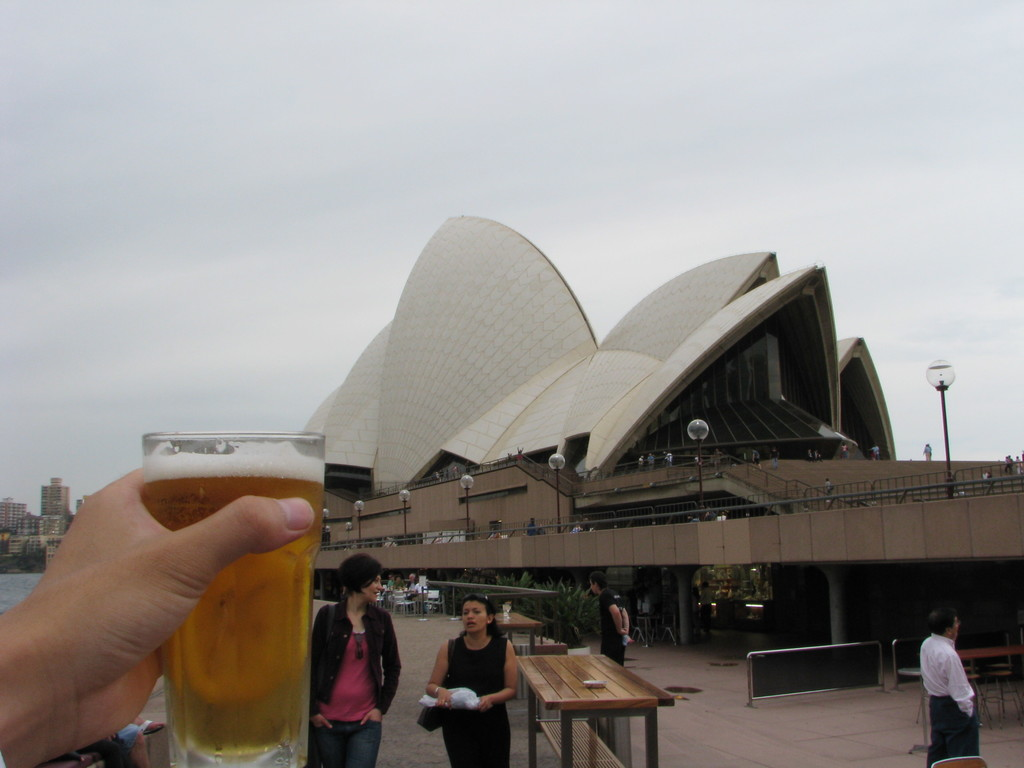Beer: (139, 469, 320, 767)
